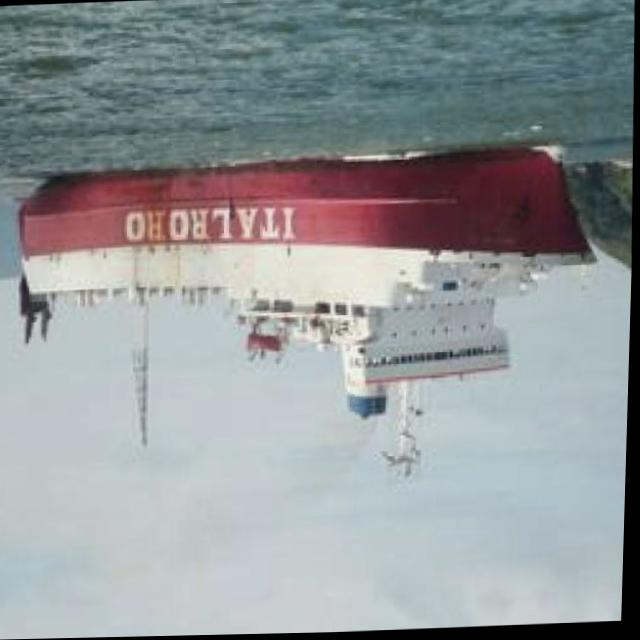ship2: (18, 147, 598, 479)
